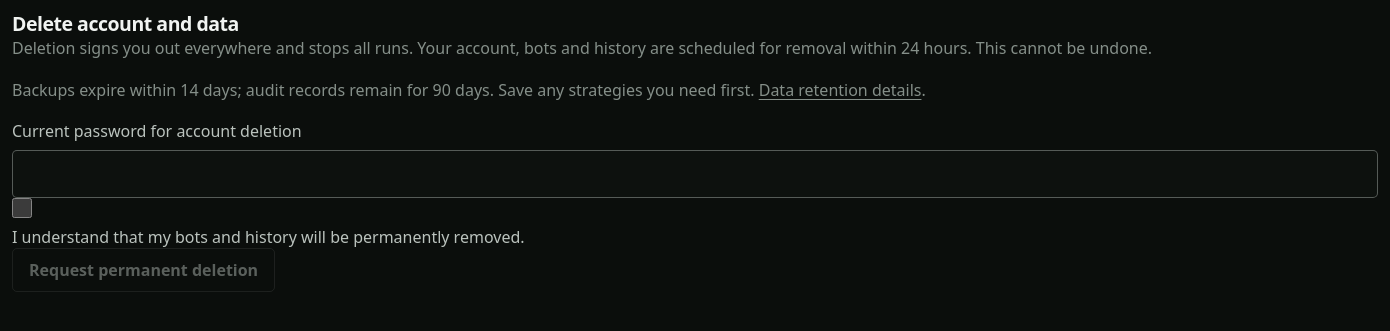
explains an ambiguous response without claiming deletion succeeded
The width and height of the screenshot is (1390, 331).
In the password field labelled "Current password for account deletion": (695, 174) [12, 150, 1378, 198], type "deletion fixture password"
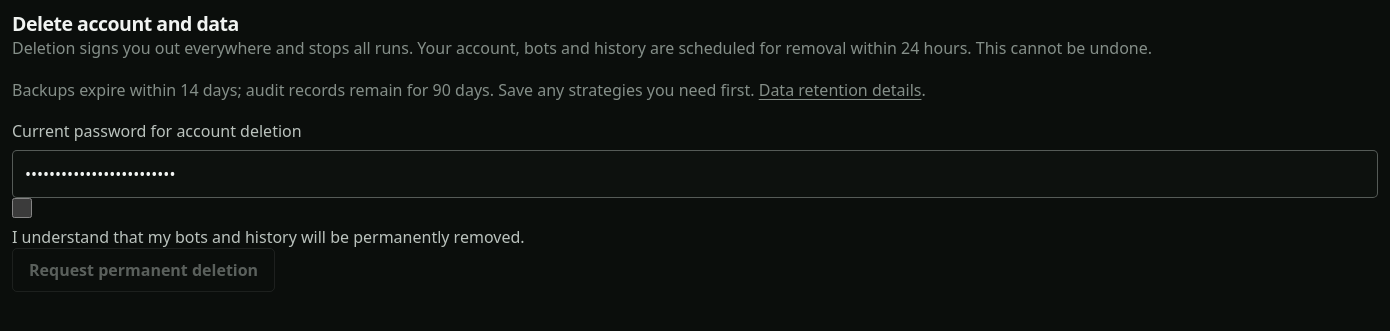
Click the checkbox labelled "I understand that my bots and history will be permanently removed.": (22, 208) [12, 198, 32, 218]
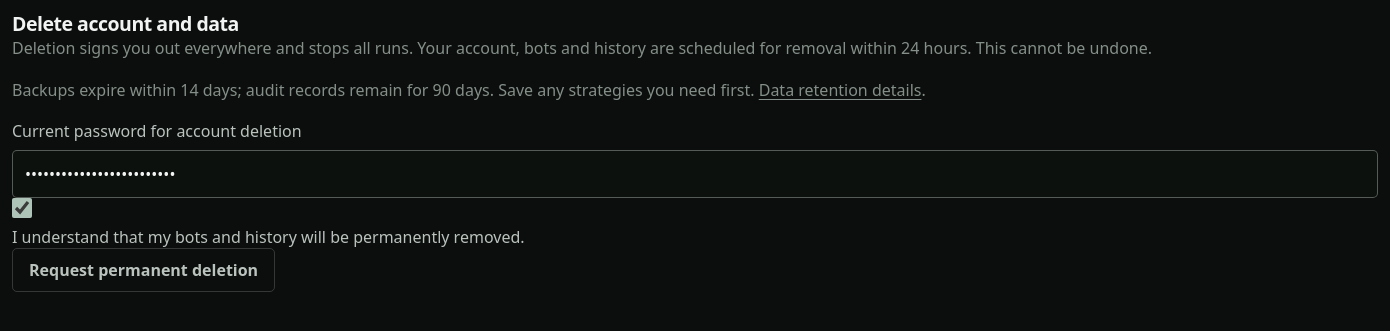
Submit the form named "Request permanent deletion", box [12, 120, 1378, 292]
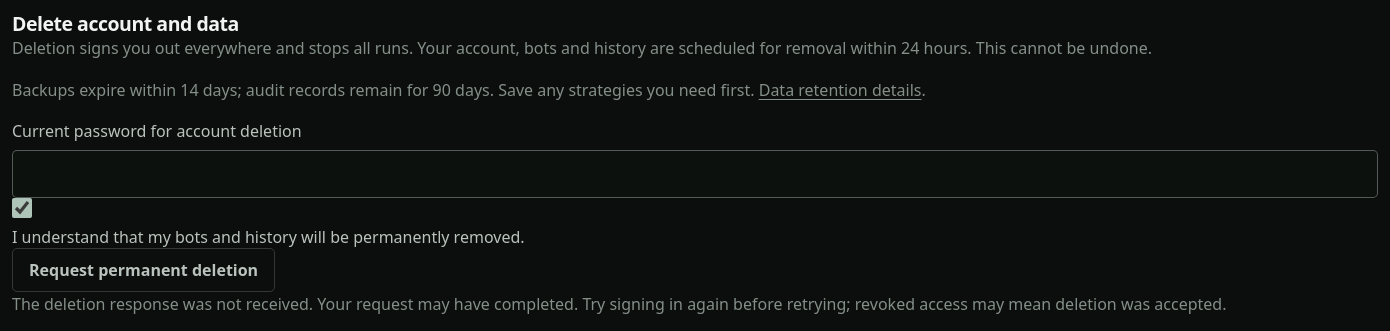
Check: the message shows "The deletion response was not received. Your request may have completed. Try signing in again before retrying; revoked access may mean deletion was accepted.", box [12, 293, 1226, 315]
